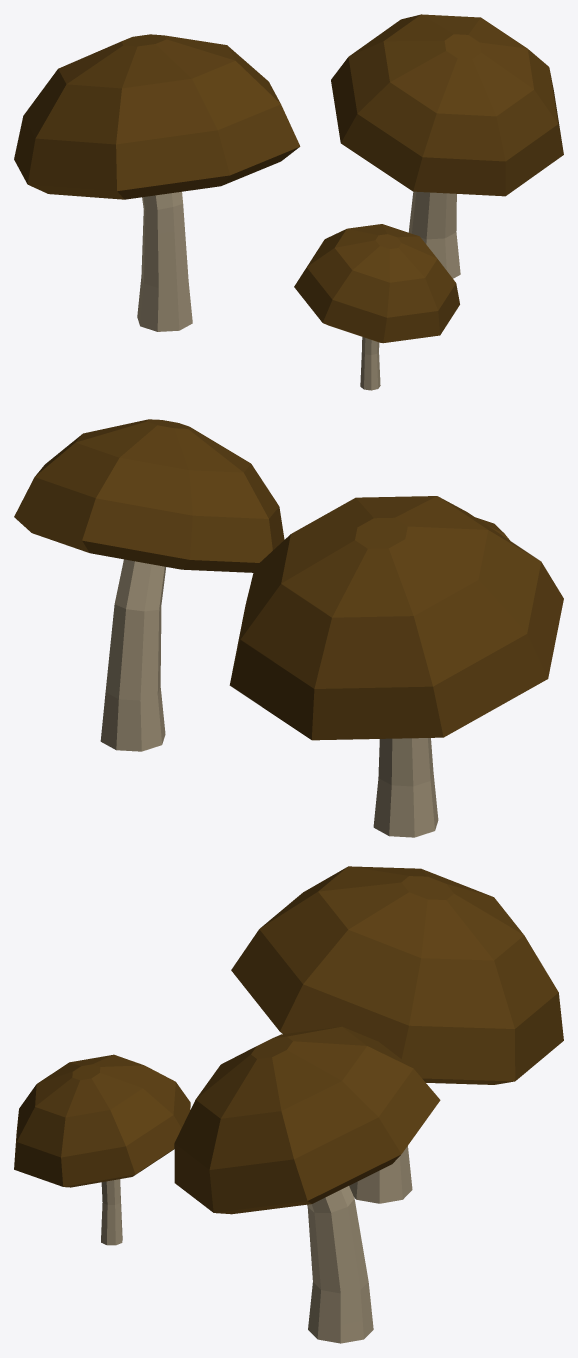
Rendered from mushrooms.fbx.
3 views of the same model, one above another, from view 1: azimuth 30°, elevation 25°; view 2: azimuth 150°, elevation 25°; view 3: azimuth 270°, elevation 25° (orthographic). The views are drawn at different scales.
Parts seen in each view (by area): view 1: Circle.003, Circle.002, Circle.004; view 2: Circle.003, Circle.002; view 3: Circle.003, Circle.002, Circle.004.
Boxes of the visible parts, <box> form: Circle.003: <box>14,34,300,331</box>; Circle.002: <box>331,14,563,278</box>; Circle.004: <box>294,224,459,390</box>; Circle.003: <box>229,496,563,837</box>; Circle.002: <box>14,419,284,751</box>; Circle.003: <box>231,866,563,1203</box>; Circle.002: <box>174,1026,440,1343</box>; Circle.004: <box>14,1054,190,1245</box>.
Bounding box in the file's own units: 14.77 × 7.85 × 12.65.
